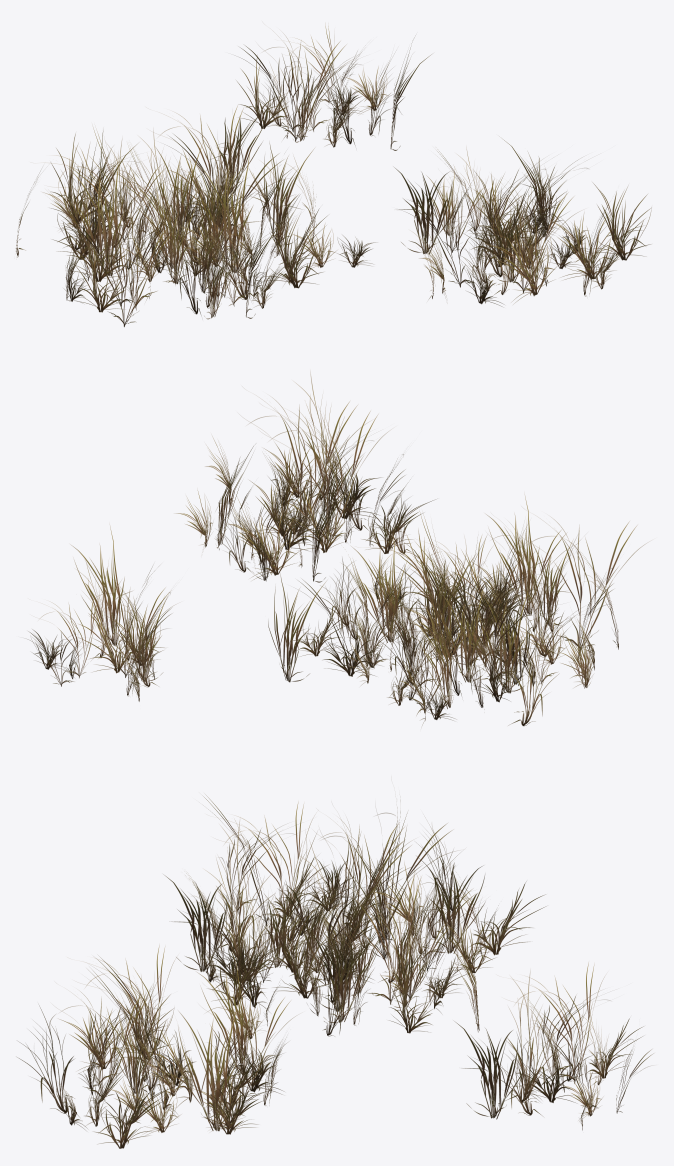
Rendered from grass2.glb.
The picture shows the model from 3 angles, top to bottom: view 1: azimuth 30°, elevation 25°; view 2: azimuth 150°, elevation 25°; view 3: azimuth 270°, elevation 25°; orthographic projection. The views are drawn at different scales.
Visible parts, largest first — view 1: grasspatch3, grasspatch1, grasspatch2; view 2: grasspatch3, grasspatch1, grasspatch2; view 3: grasspatch3, grasspatch1, grasspatch2.
Part boxes in pixels (left/top/right/bottom): grasspatch3: left=16, top=106, right=375, bottom=326; grasspatch1: left=394, top=140, right=651, bottom=306; grasspatch2: left=237, top=26, right=431, bottom=150; grasspatch3: left=268, top=496, right=646, bottom=726; grasspatch1: left=176, top=372, right=435, bottom=582; grasspatch2: left=30, top=526, right=172, bottom=701; grasspatch3: left=166, top=795, right=545, bottom=1039; grasspatch1: left=17, top=945, right=295, bottom=1148; grasspatch2: left=456, top=963, right=652, bottom=1130.
Bounding box in the file's own units: 5.07 × 1.29 × 5.24.
Materials: 1 (1 with a texture image).
